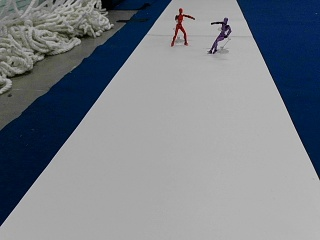pedestrian: (171, 8, 195, 46), (208, 16, 230, 53)
